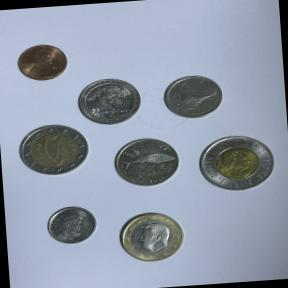coin: (190, 124, 286, 200), (108, 204, 195, 271), (104, 131, 188, 197), (11, 120, 94, 182), (72, 71, 148, 129), (7, 36, 78, 92), (39, 198, 103, 250)
